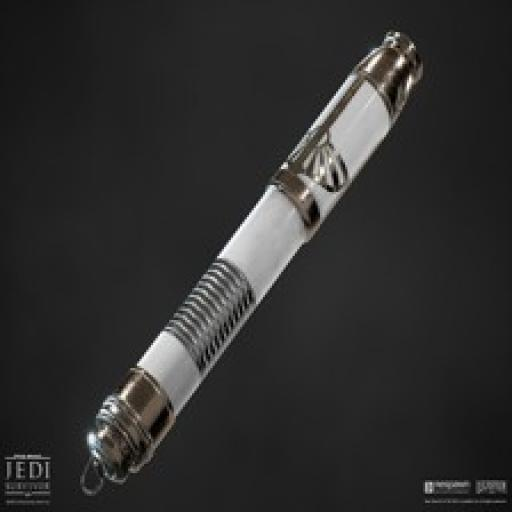lightsaber: (82, 26, 417, 491)
